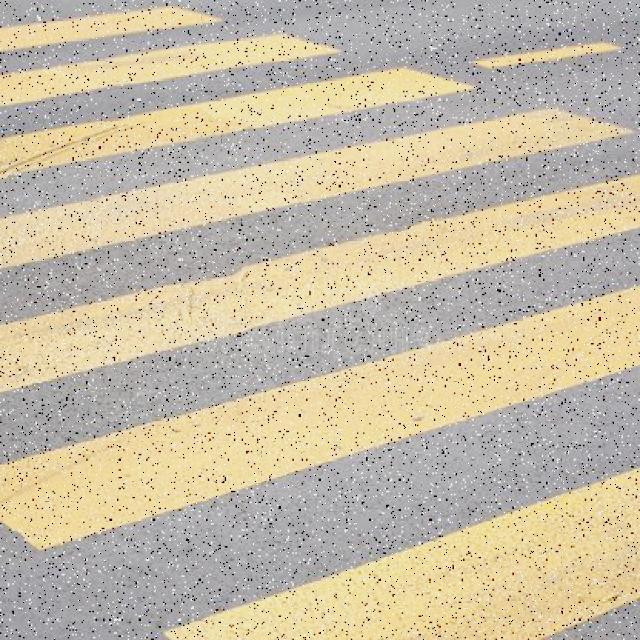crosswalk: (2, 5, 639, 640)
